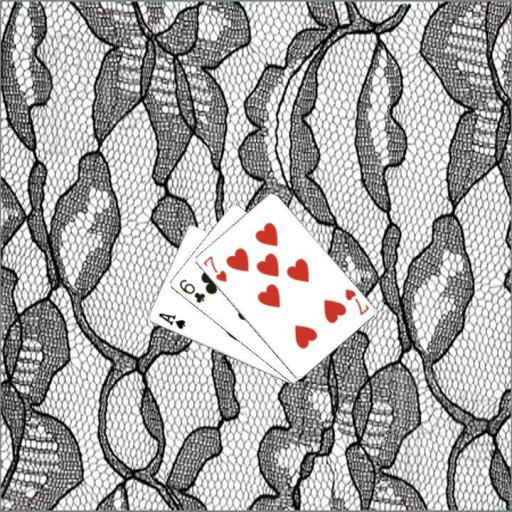6C: (176, 276, 206, 304)
7H: (342, 286, 371, 317), (200, 252, 228, 284)
AS: (155, 310, 186, 331)
